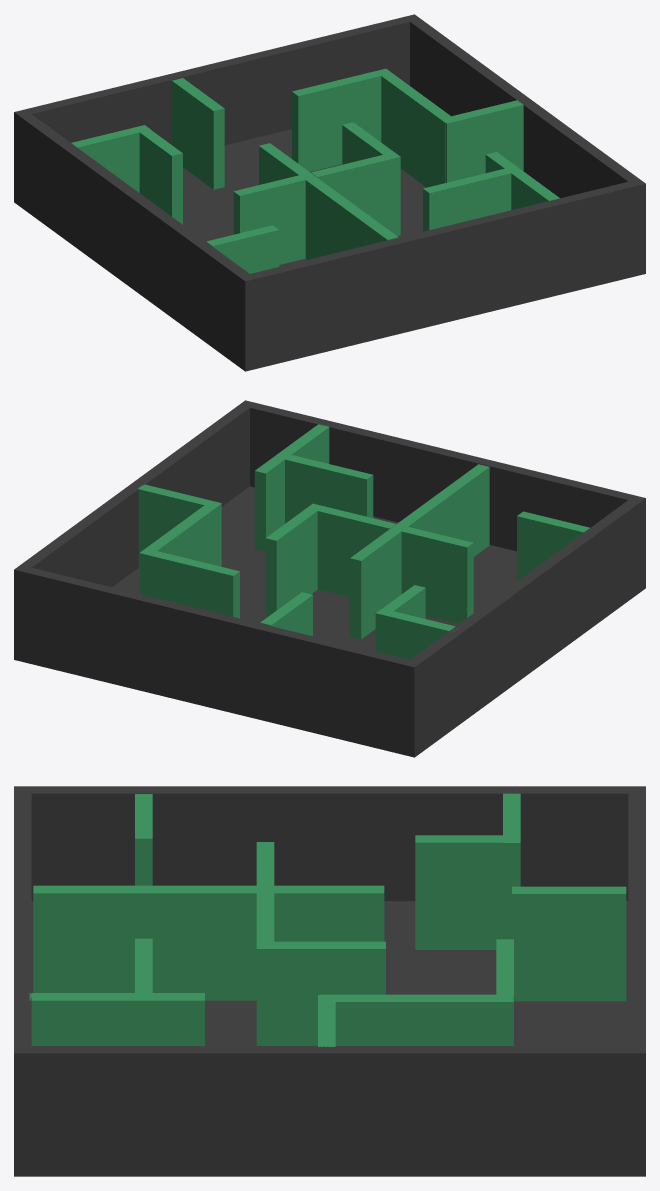
Rendered from Labirin.fbx.
3 renders of one model, top to bottom at view 1: azimuth 30°, elevation 25°; view 2: azimuth 150°, elevation 25°; view 3: azimuth 270°, elevation 25°, orthographic. The views are drawn at different scales.
Visible parts, largest first — view 1: Cube.001, Cube, Cube.002, Cube.004, Cube.003, Cube.006, Cube.008, Cube.015, Cube.014, Cube.016, Cube.010, Cube.013 (+6 smaller); view 2: Cube.002, Cube, Cube.001, Cube.004, Cube.003, Cube.008, Cube.010, Cube.017, Cube.007, Cube.006, Cube.013, Cube.005 (+6 smaller); view 3: Cube.003, Cube, Cube.008, Cube.004, Cube.016, Cube.012, Cube.015, Cube.005, Cube.017, Cube.001, Cube.002, Cube.013 (+6 smaller).
Part boxes in pixels (box(x1,y1,x2,y2)): Cube.001: box(246, 180, 640, 366); Cube: box(14, 109, 256, 368); Cube.002: box(25, 16, 414, 145); Cube.004: box(14, 129, 645, 371); Cube.003: box(404, 14, 645, 263); Cube.006: box(292, 71, 381, 171); Cube.008: box(259, 143, 398, 259); Cube.015: box(375, 68, 455, 187); Cube.014: box(441, 100, 523, 182); Cube.016: box(172, 78, 224, 189); Cube.010: box(233, 175, 305, 264); Cube.013: box(310, 152, 400, 235); Cube.002: box(19, 566, 414, 743); Cube: box(403, 495, 645, 754); Cube.001: box(245, 402, 637, 551); Cube.004: box(14, 486, 645, 757); Cube.003: box(14, 400, 251, 659); Cube.008: box(350, 464, 489, 639); Cube.010: box(401, 526, 473, 623); Cube.017: box(265, 507, 317, 616); Cube.007: box(285, 454, 373, 523); Cube.006: box(150, 551, 239, 618); Cube.013: box(308, 503, 396, 597); Cube.005: box(254, 424, 329, 551); Cube.003: box(14, 1046, 645, 1172); Cube: box(14, 786, 645, 900); Cube.008: box(33, 885, 384, 1000); Cube.004: box(14, 901, 645, 1176); Cube.016: box(512, 886, 626, 1001); Cube.012: box(415, 835, 502, 949); Cube.015: box(321, 994, 513, 1045); Cube.005: box(29, 993, 204, 1045); Cube.017: box(272, 941, 385, 1045); Cube.001: box(14, 790, 31, 1049); Cube.002: box(628, 790, 645, 1049); Cube.013: box(256, 893, 274, 1045).
Bounding box in the file's own units: 1440 × 310 × 1440.
